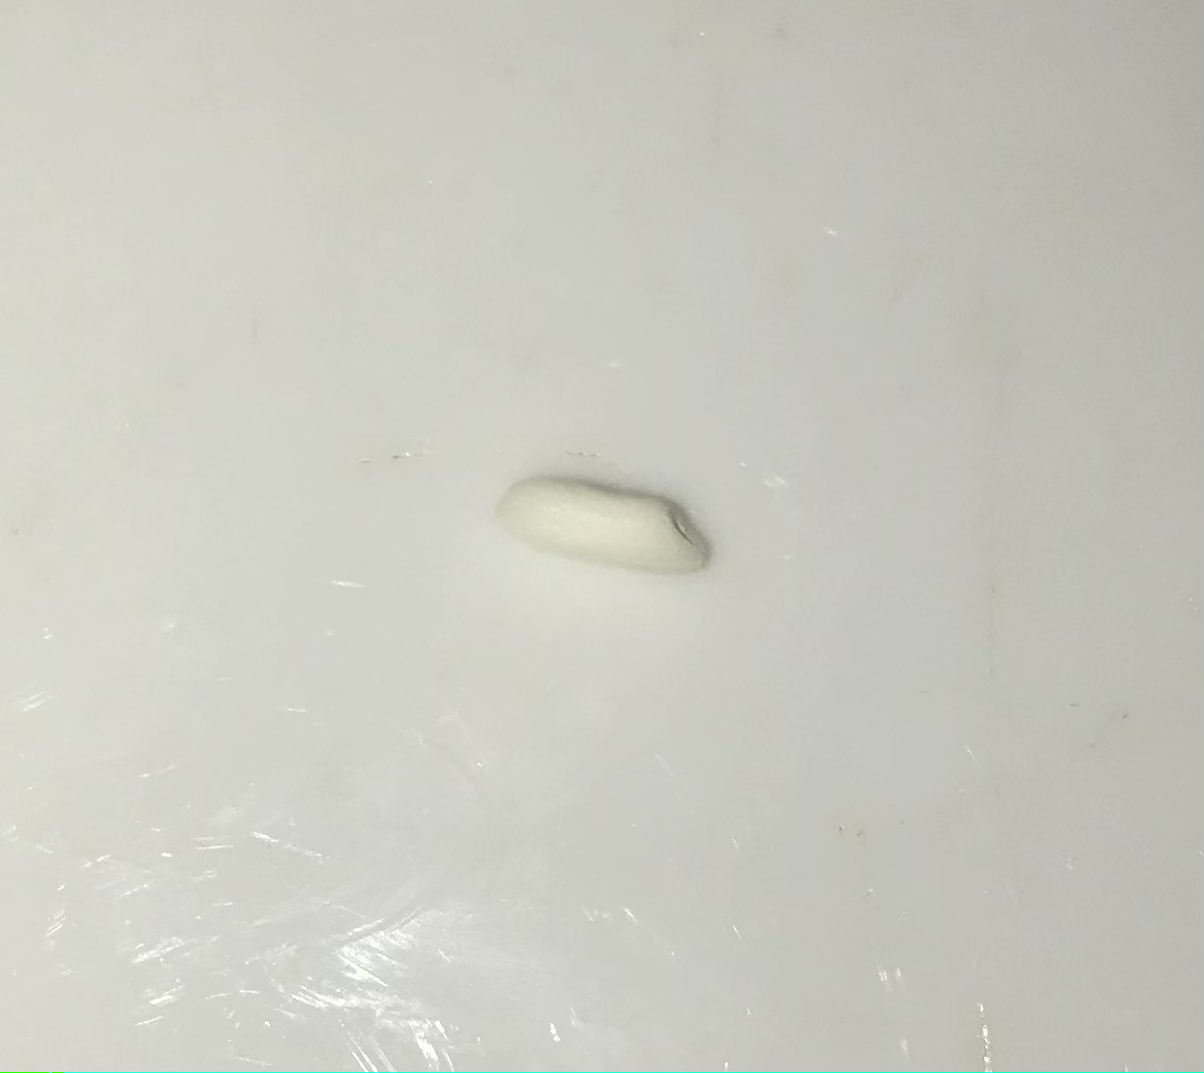Gao Nep Sap: (494, 464, 728, 591)
